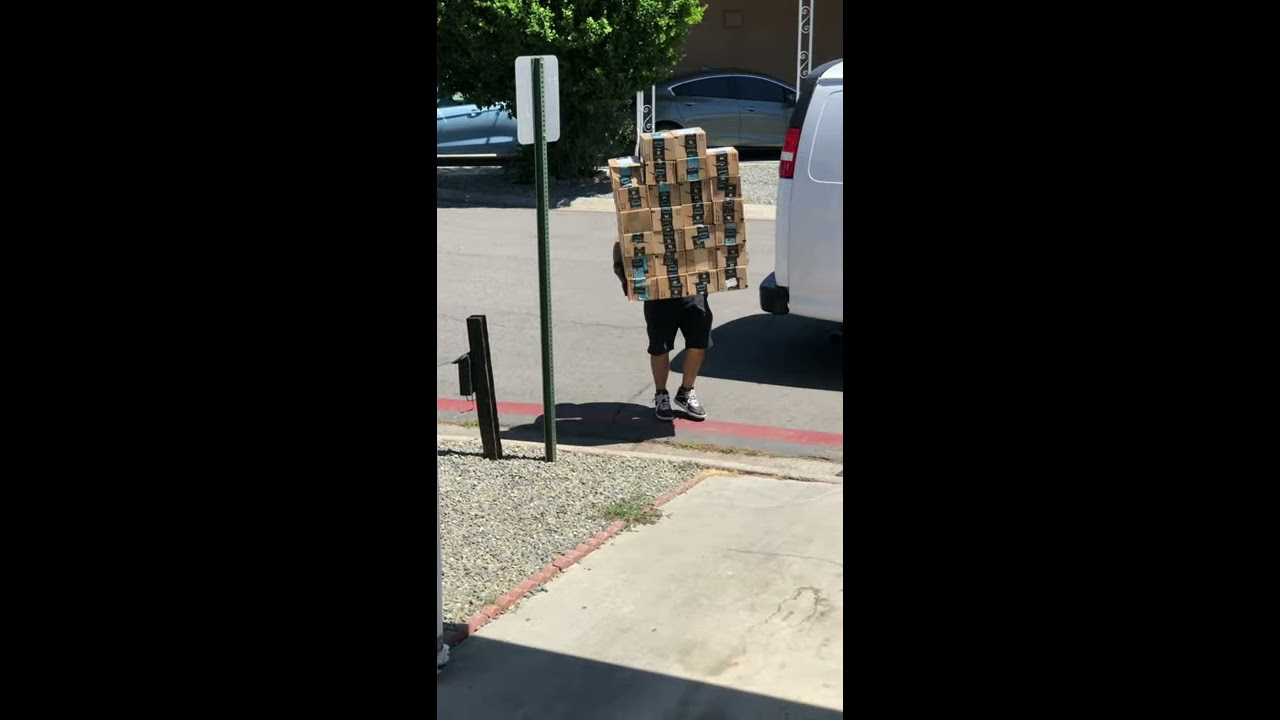Car: (639, 60, 814, 162)
DeliveryBox: (577, 117, 764, 306)
Tree: (431, 2, 697, 155)
